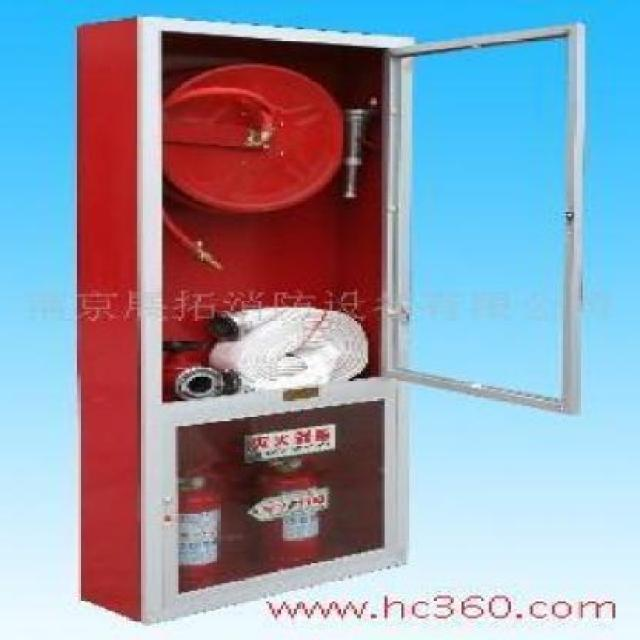firehydrant: (66, 11, 596, 632)
